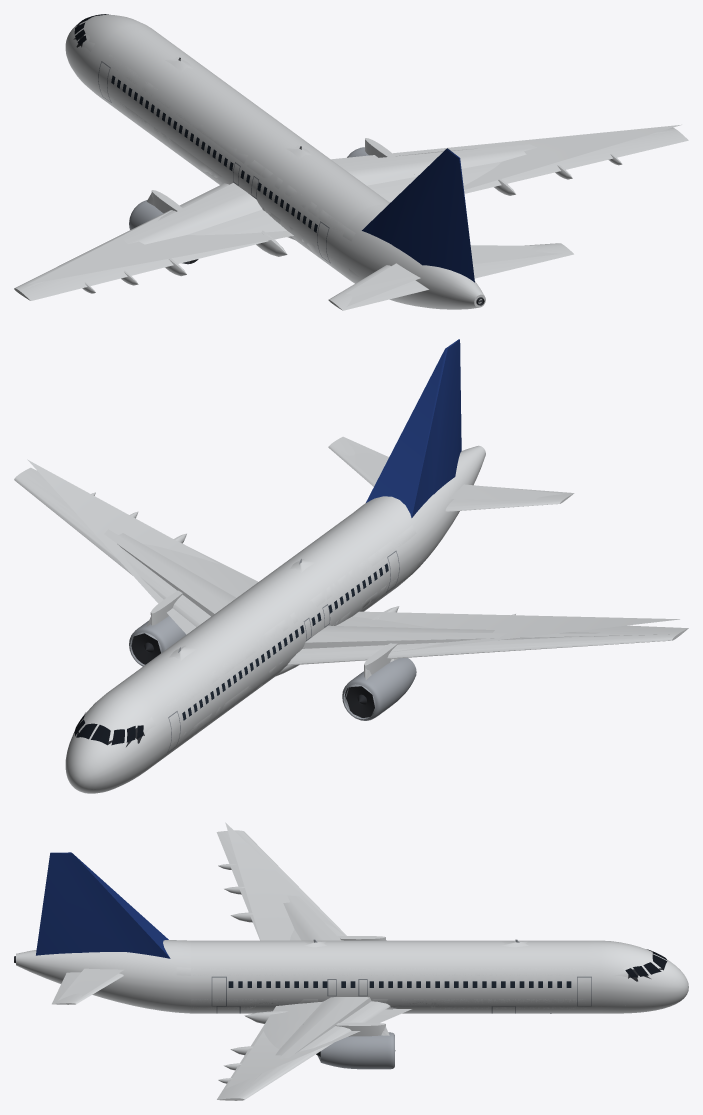
The model's file is lat_narrow.dae.
3 views of the same model, one above another, from view 1: azimuth 30°, elevation 25°; view 2: azimuth 150°, elevation 25°; view 3: azimuth 270°, elevation 25° (orthographic). The views are drawn at different scales.
Visible parts, largest first — view 1: lat_narrow150, lat_narrow1, lat_narrow32; view 2: lat_narrow150, lat_narrow1, lat_narrow32; view 3: lat_narrow150, lat_narrow1, lat_narrow32.
Boxes of the visible parts, box(x1,y1,x2,y2) form: lat_narrow150: box(14, 14, 688, 310); lat_narrow1: box(27, 124, 681, 306); lat_narrow32: box(21, 19, 675, 302); lat_narrow150: box(14, 436, 688, 793); lat_narrow1: box(27, 339, 679, 663); lat_narrow32: box(22, 475, 669, 767); lat_narrow150: box(14, 830, 688, 1100); lat_narrow1: box(36, 822, 411, 1088); lat_narrow32: box(128, 831, 663, 1096).
Bounding box in the file's own units: 35.8 × 38.12 × 10.69.
